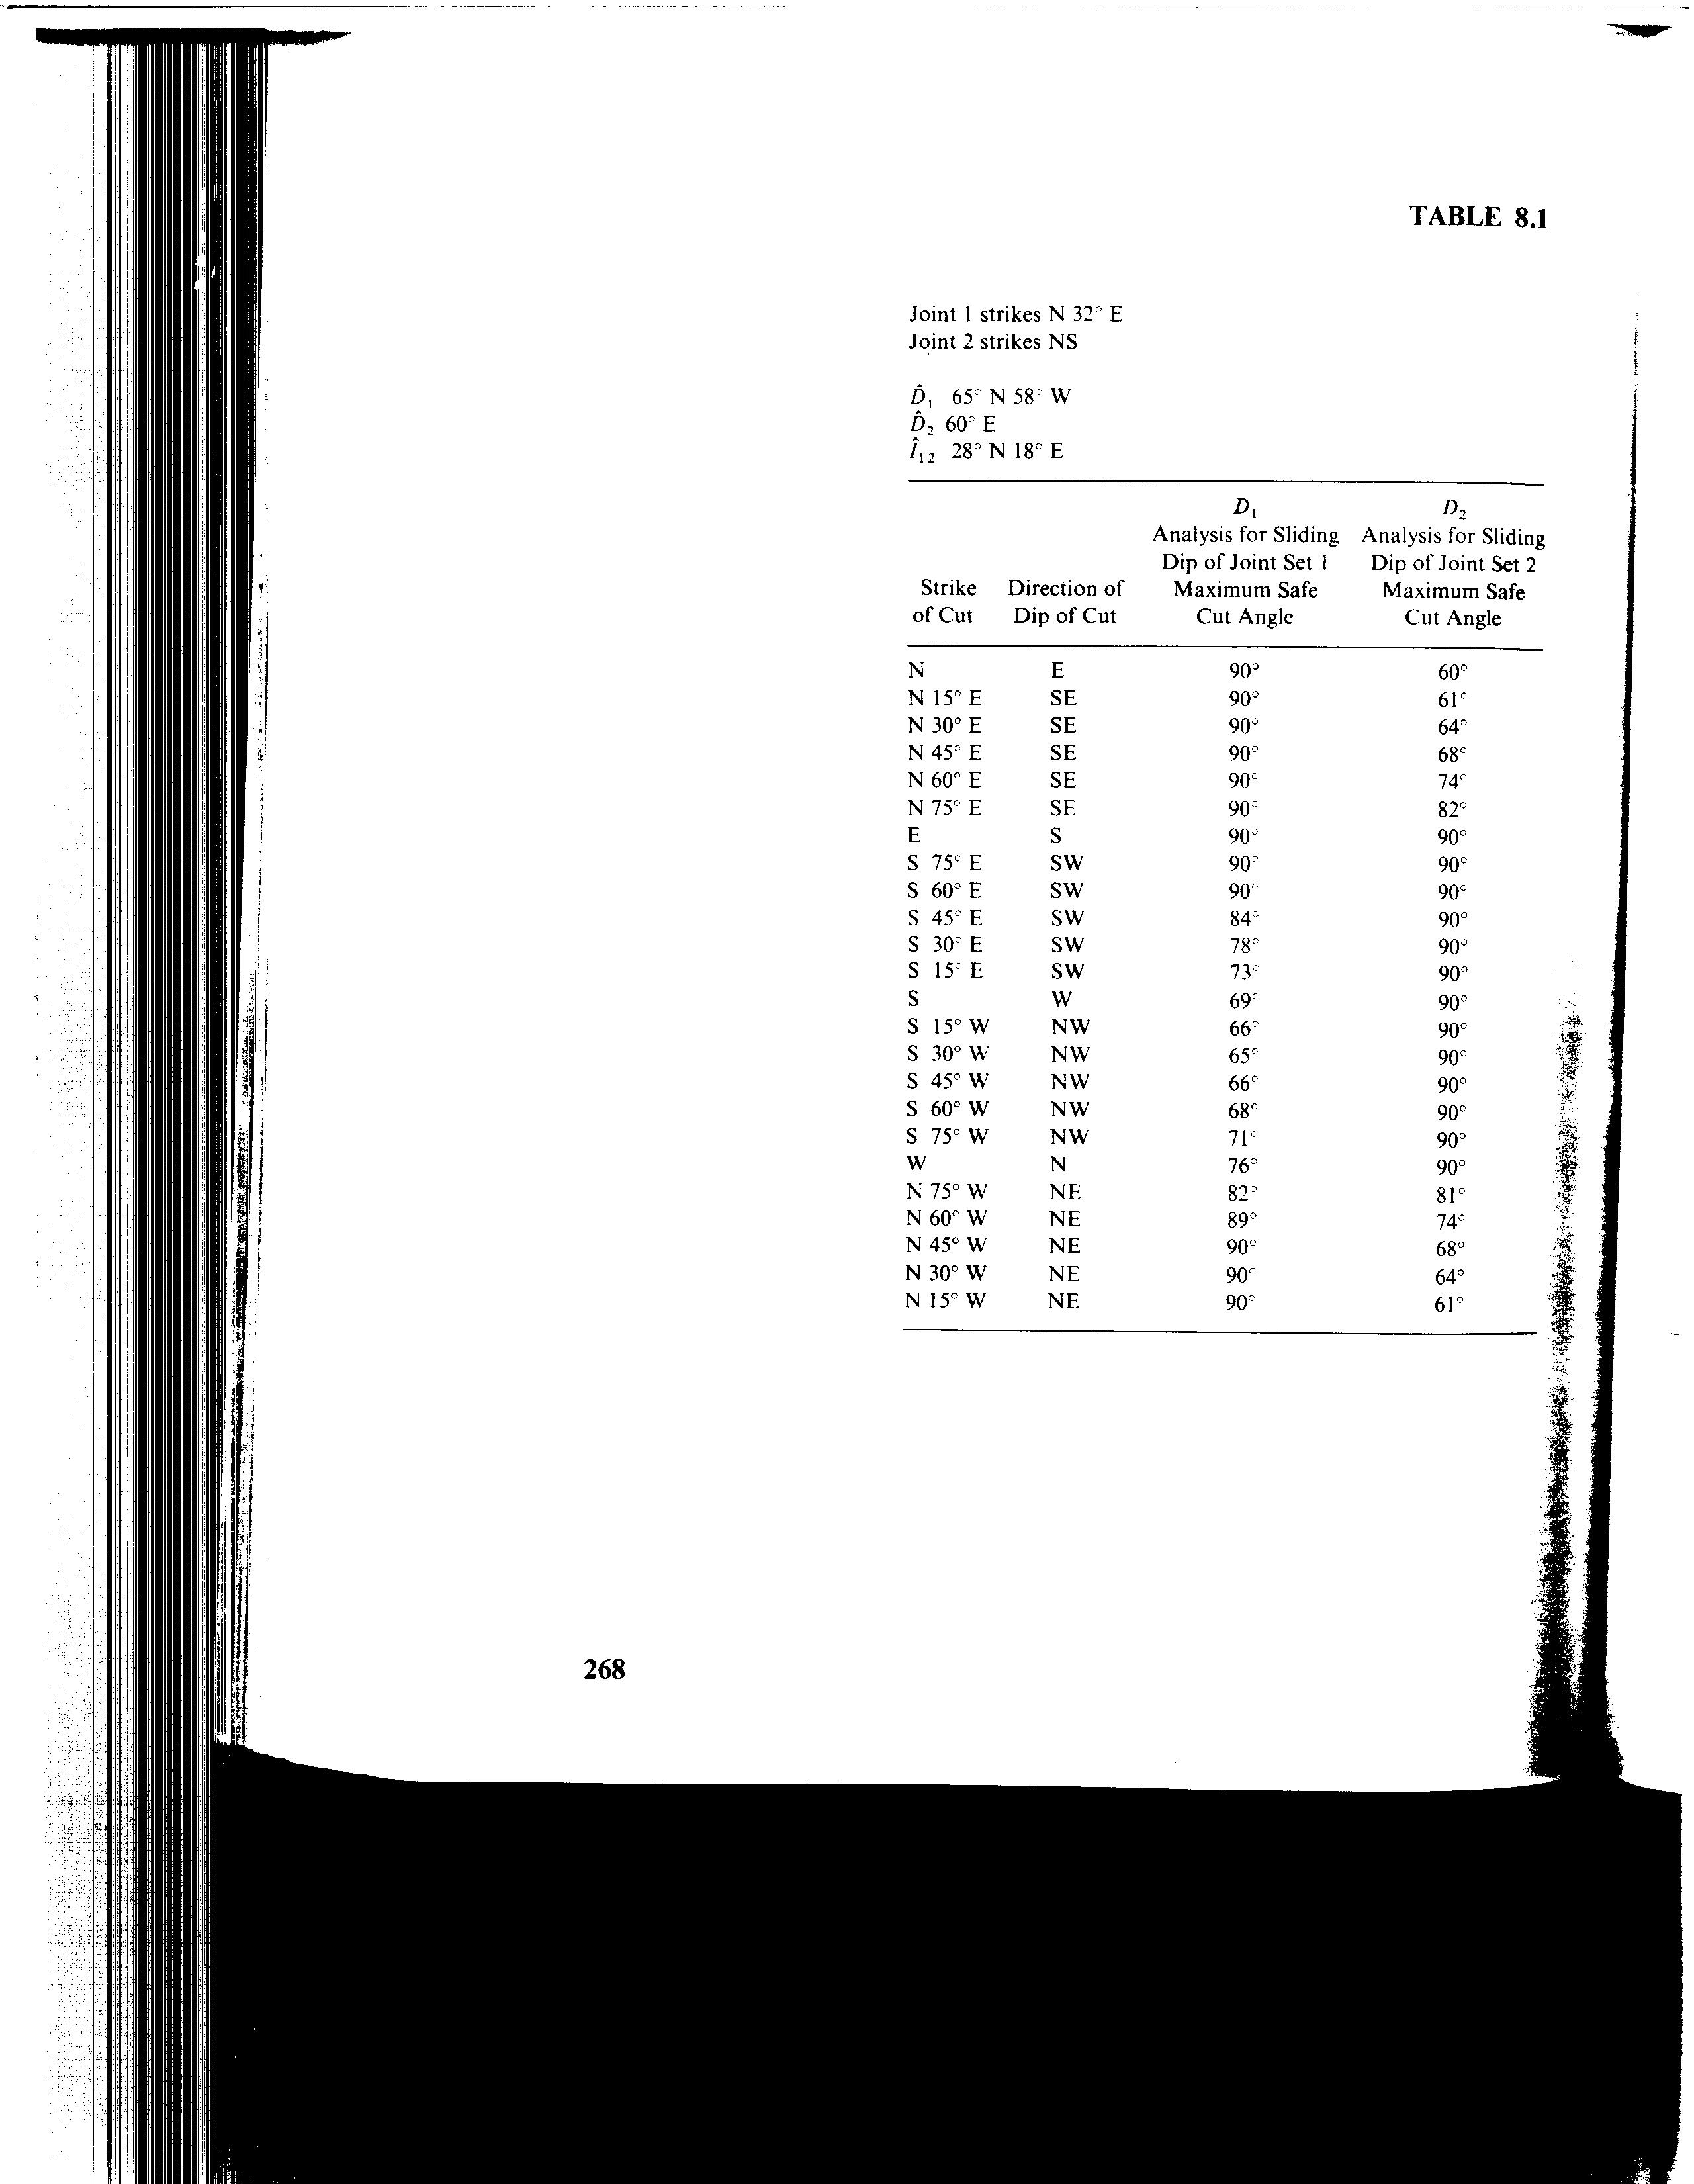borderless: (902, 300, 1547, 1333)
